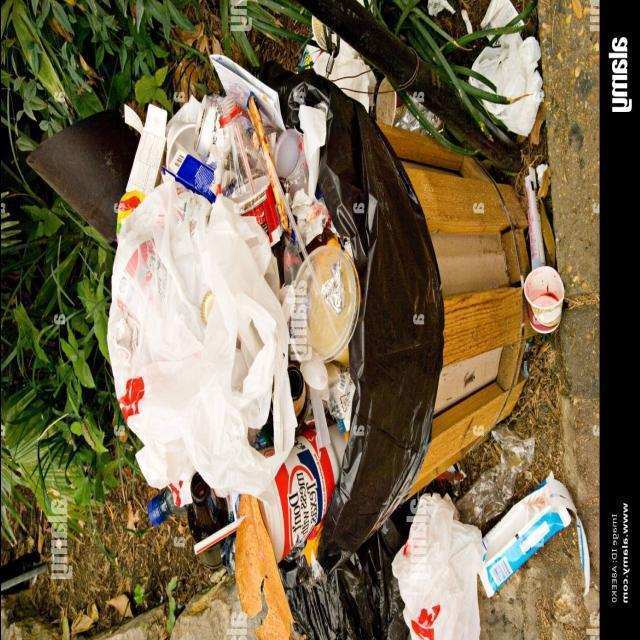Disposable: (258, 427, 346, 564), (288, 244, 360, 362)
Garbage: (108, 54, 360, 638)
Glass_bottle: (186, 473, 228, 544), (199, 544, 221, 570)
Plastic: (272, 129, 299, 179), (309, 389, 330, 448), (299, 360, 327, 391)
Plastic_Bag: (106, 181, 295, 503), (318, 362, 354, 433)
Plastic_bottle: (215, 97, 279, 244), (146, 487, 186, 527), (286, 364, 305, 421), (251, 405, 273, 453)
Plastic_wraper: (246, 95, 288, 226), (115, 189, 143, 236)
Tetrapack: (166, 149, 215, 203)
